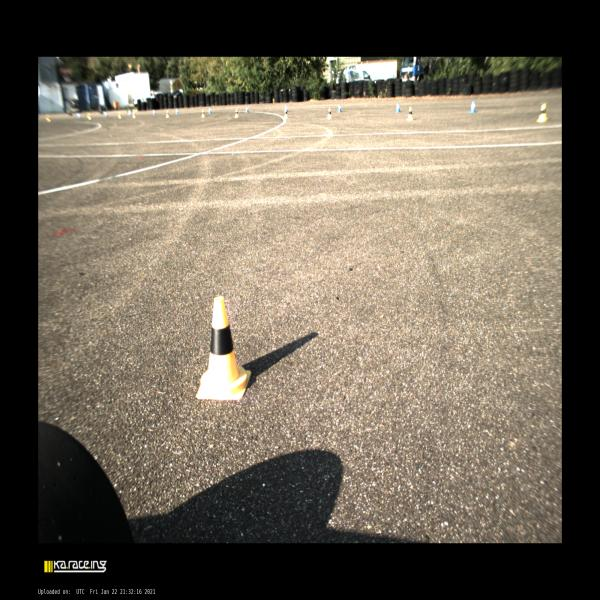blue_cone: (470, 100, 476, 113), (395, 102, 401, 113), (284, 103, 288, 112), (208, 107, 212, 114), (245, 106, 249, 113), (338, 103, 341, 112), (152, 109, 155, 116), (176, 108, 178, 114)
yellow_cone: (195, 296, 251, 399), (537, 103, 548, 122), (406, 107, 413, 120), (326, 108, 332, 119), (234, 109, 239, 118), (284, 109, 288, 119), (201, 109, 205, 118), (132, 110, 136, 119), (166, 110, 170, 118)
